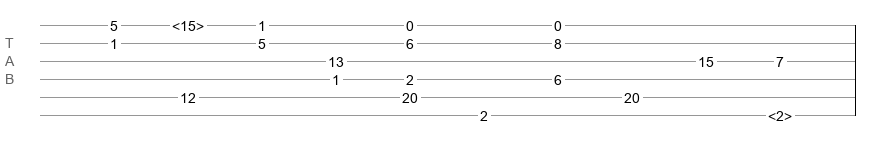0: (406, 18, 414, 28), (554, 18, 562, 28)
1: (110, 36, 118, 46), (258, 18, 266, 28), (332, 72, 340, 82)
12: (180, 90, 196, 100)
13: (328, 54, 344, 64)
15: (698, 54, 714, 64)
2: (406, 72, 414, 82), (480, 108, 488, 118)
20: (402, 90, 418, 100), (624, 90, 640, 100)
5: (110, 18, 118, 28), (258, 36, 266, 46)
6: (406, 36, 414, 46), (554, 72, 562, 82)
7: (776, 54, 784, 64)
8: (554, 36, 562, 46)
harmonic: (172, 18, 204, 28), (768, 108, 792, 118)
